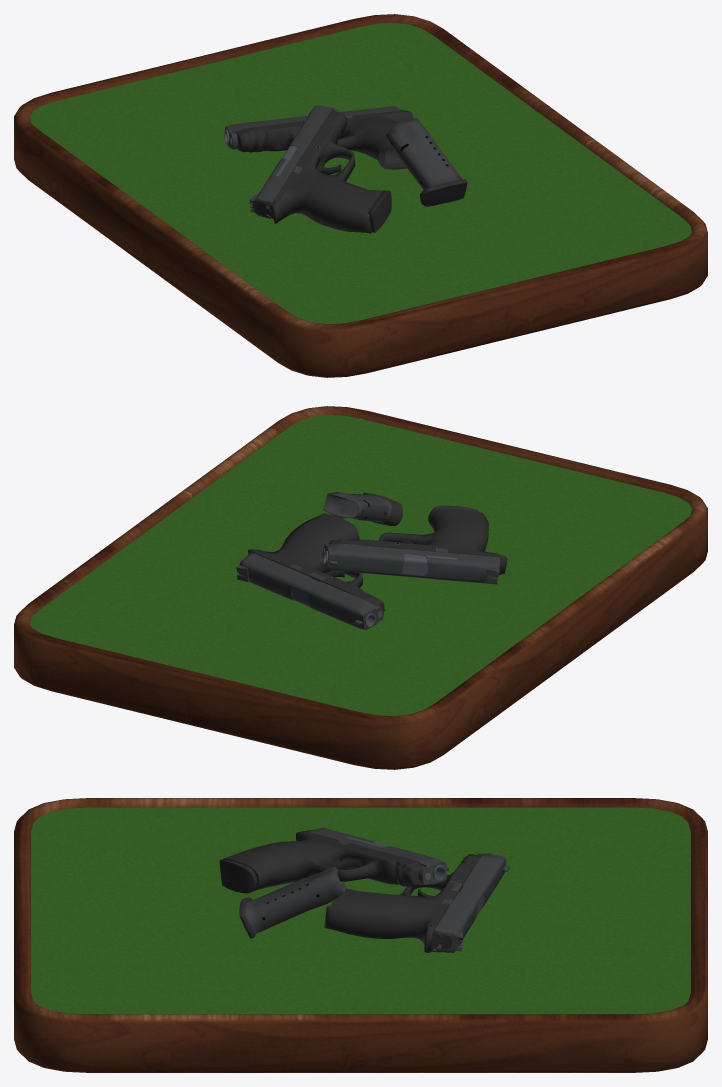
3 views of the same model, one above another, from view 1: azimuth 30°, elevation 25°; view 2: azimuth 150°, elevation 25°; view 3: azimuth 270°, elevation 25° (orthographic). The views are drawn at different scales.
Parts seen in each view (by area): view 1: Desk, Body002, Body, Clip, Slide002, Slide, Clip002; view 2: Desk, Slide002, Body, Slide, Body002, Clip; view 3: Desk, Body002, Body, Clip, Slide, Slide002, Clip002.
Part boxes in pixels (x1,y1,x2,y2): Desk: (14,14,707,377); Body002: (266,110,383,233); Body: (224,110,412,169); Clip: (385,118,467,206); Slide002: (249,105,340,219); Slide: (225,106,402,149); Clip002: (369,190,391,232); Desk: (14,406,707,769); Slide002: (322,543,500,584); Body: (248,513,384,627); Slide: (236,552,383,629); Body002: (323,508,507,575); Clip: (323,492,402,525); Desk: (14,798,707,1072); Body002: (219,831,446,890); Body: (324,854,482,952); Clip: (239,866,346,938); Slide: (432,853,509,952); Slide002: (306,828,448,885); Clip002: (219,859,257,893).
Size of the model in its own units: 193 by 44.69 by 253.
Materials: 2 (2 with a texture image).
